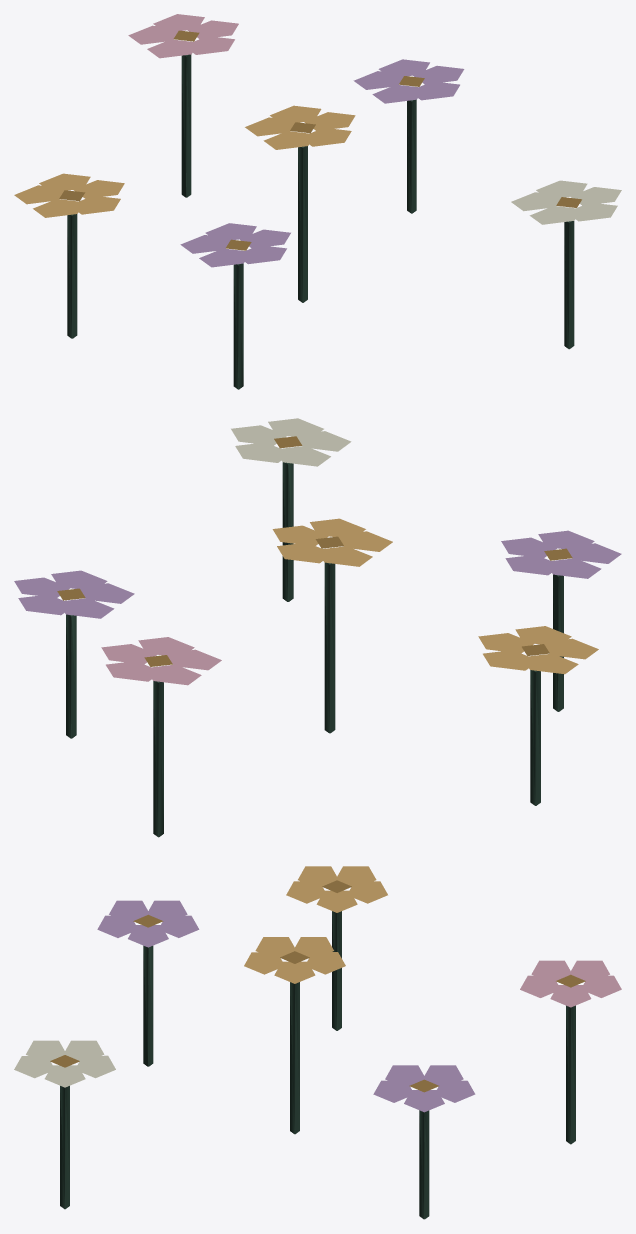
Rendered from low.flowers.a.glb.
The picture shows the model from 3 angles, top to bottom: view 1: azimuth 30°, elevation 25°; view 2: azimuth 150°, elevation 25°; view 3: azimuth 270°, elevation 25°; orthographic projection. The views are drawn at different scales.
Size of the model in its own units: 0.4353 by 0.1504 by 0.4753.
